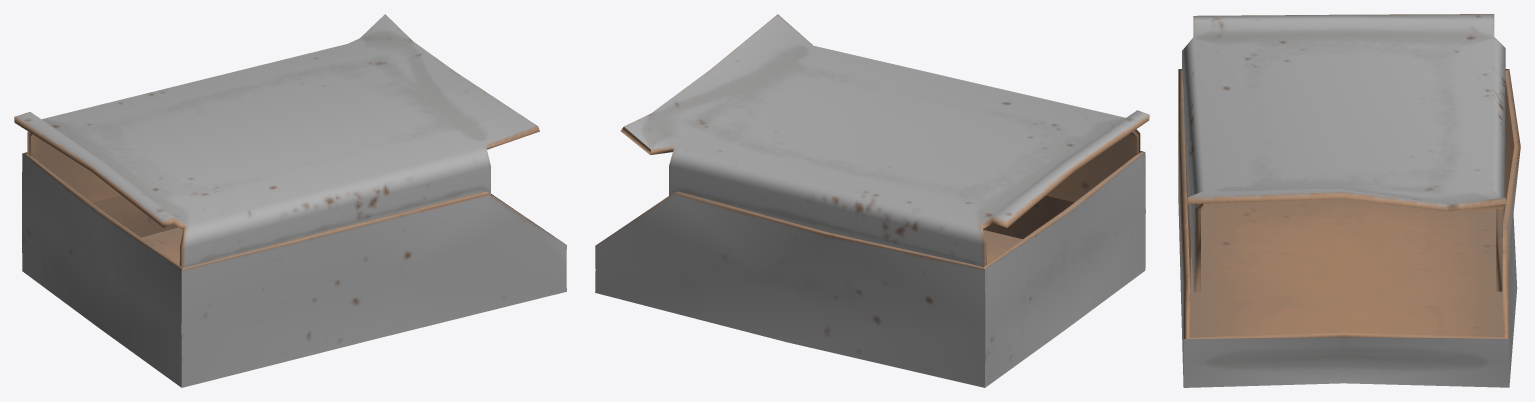
The model's file is SM_CartonDrawer_07.FBX.
3 renders of one model, left to right at view 1: azimuth 30°, elevation 25°; view 2: azimuth 150°, elevation 25°; view 3: azimuth 270°, elevation 25°, orthographic. The views are drawn at different scales.
Visible parts, largest first — view 1: SM_CartonDrawer_07; view 2: SM_CartonDrawer_07; view 3: SM_CartonDrawer_07.
Part boxes in pixels (left/top/right/bottom): SM_CartonDrawer_07: left=14, top=14, right=566, bottom=387; SM_CartonDrawer_07: left=595, top=14, right=1149, bottom=387; SM_CartonDrawer_07: left=1178, top=14, right=1520, bottom=387.
Bounding box in the file's own units: 50.73 × 35.98 × 20.69.
